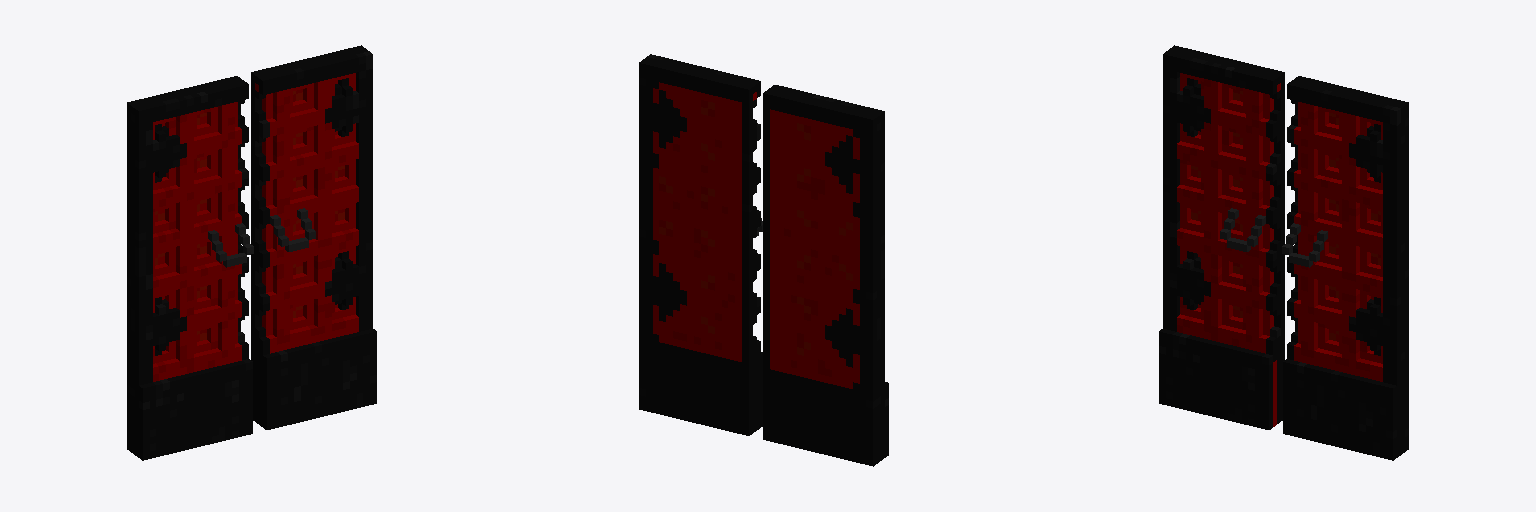
3 renders of one model, left to right at view 1: azimuth 30°, elevation 25°; view 2: azimuth 150°, elevation 25°; view 3: azimuth 330°, elevation 25°, orthographic.
Visible parts, largest first — view 1: object 1; view 2: object 1; view 3: object 1.
Boxes of the visible parts, box(x1,y1,x2,y2) form: object 1: box(127, 45, 376, 460); object 1: box(639, 54, 888, 466); object 1: box(1159, 45, 1408, 460).
Size of the model in its own units: 3.4 by 4.8 by 0.6.
Materials: 1 (1 with a texture image).